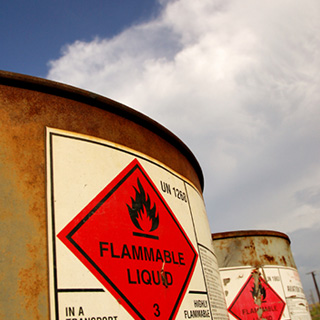FlammableLiquid: (66, 164, 195, 319)
